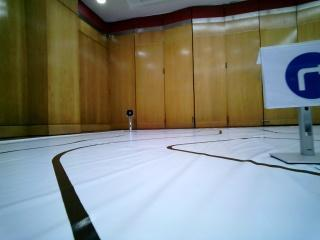right: (262, 43, 320, 107)
